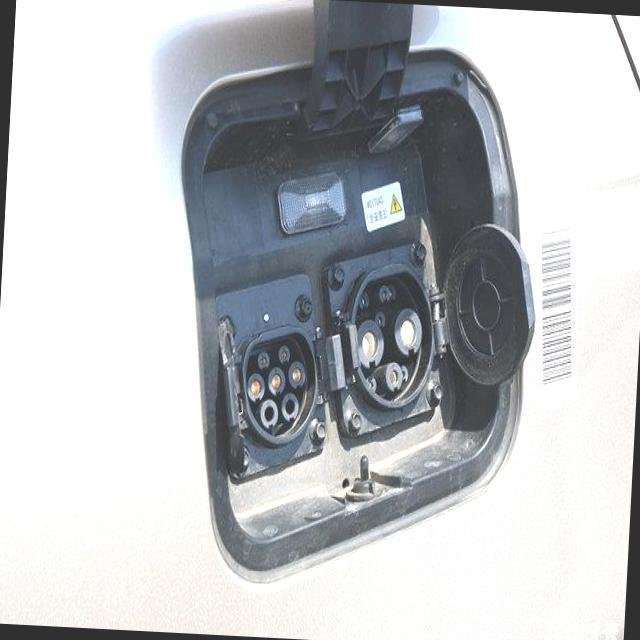GB-T: (320, 250, 470, 436)
